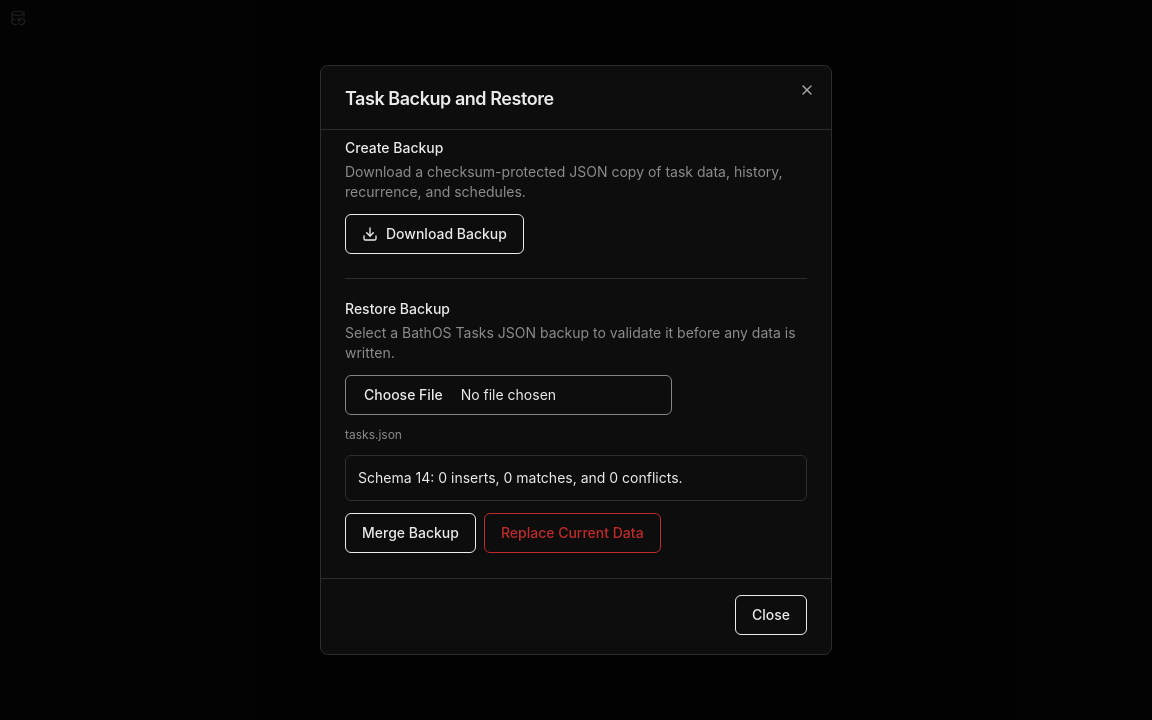
it: TaskDataPortabilityDialog › keeps a failed confirmation open and requires a newly prepared backup
Earlier steps of the test are not shown.
Check: the text "Schema 14: 0 inserts, 0 matches, and 0 conflicts." is shown, box [358,469,683,486]
Click the button "Replace Current Data" at (572, 533), box [484,513,661,553]
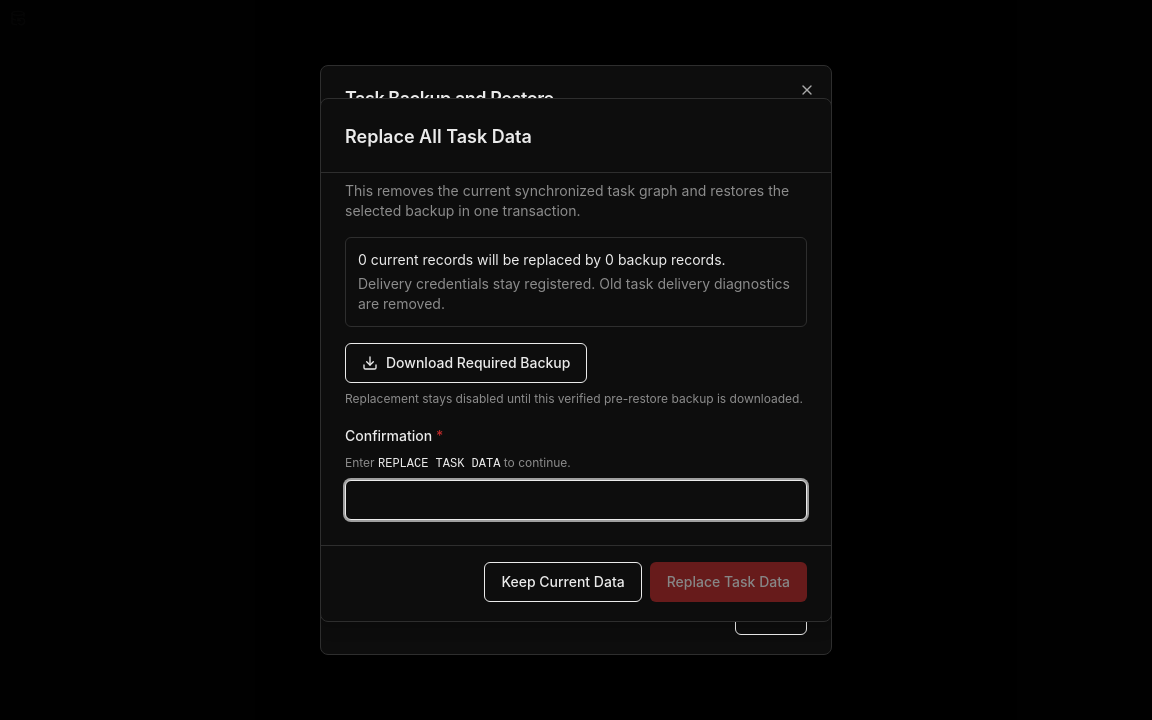
Check: the heading "Replace All Task Data" is shown, box [345,126,532,147]
Click the button "Download Required Backup" at (466, 363), box [345,343,587,383]
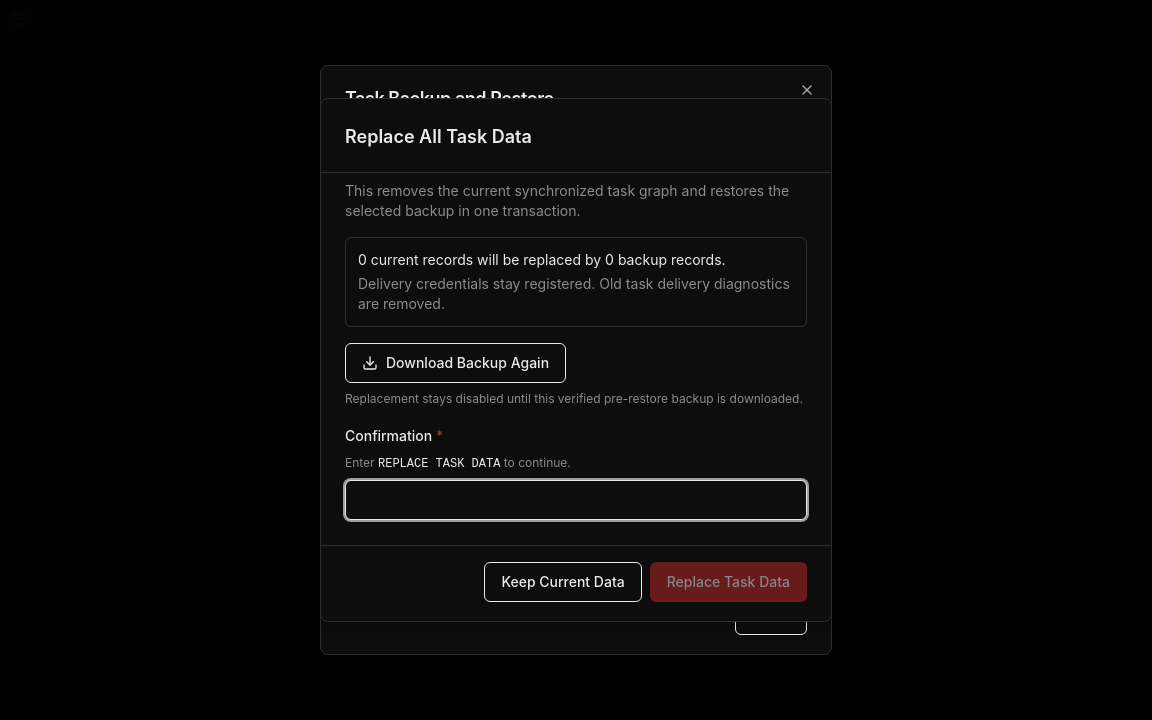
Type "REPLACE TASK DATA" into the field labelled "Confirmation *" at (576, 500), box [345,480,807,520]
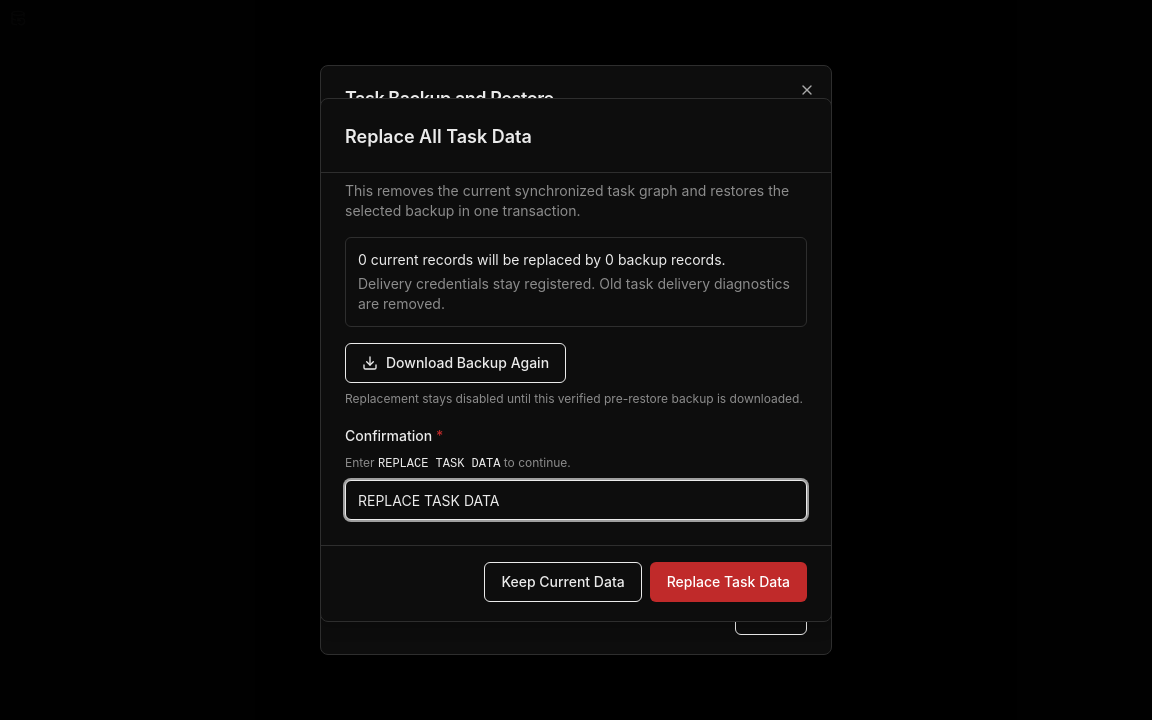
Click the button "Replace Task Data" at (728, 582), box [650,562,807,602]
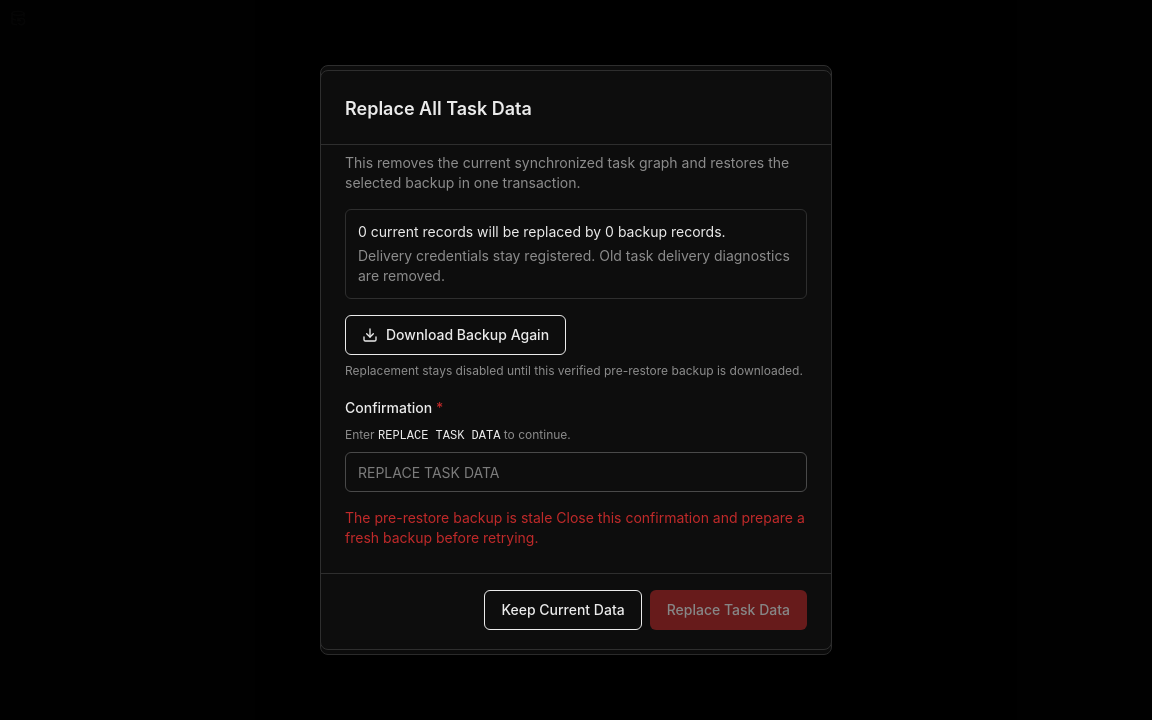
Check: the heading "Replace All Task Data" is shown, box [345,98,532,119]
Check: the message shows "pre-restore backup is stale", box [345,509,552,526]
Check: the button "Replace Task Data" is disabled, box [650,590,807,630]
